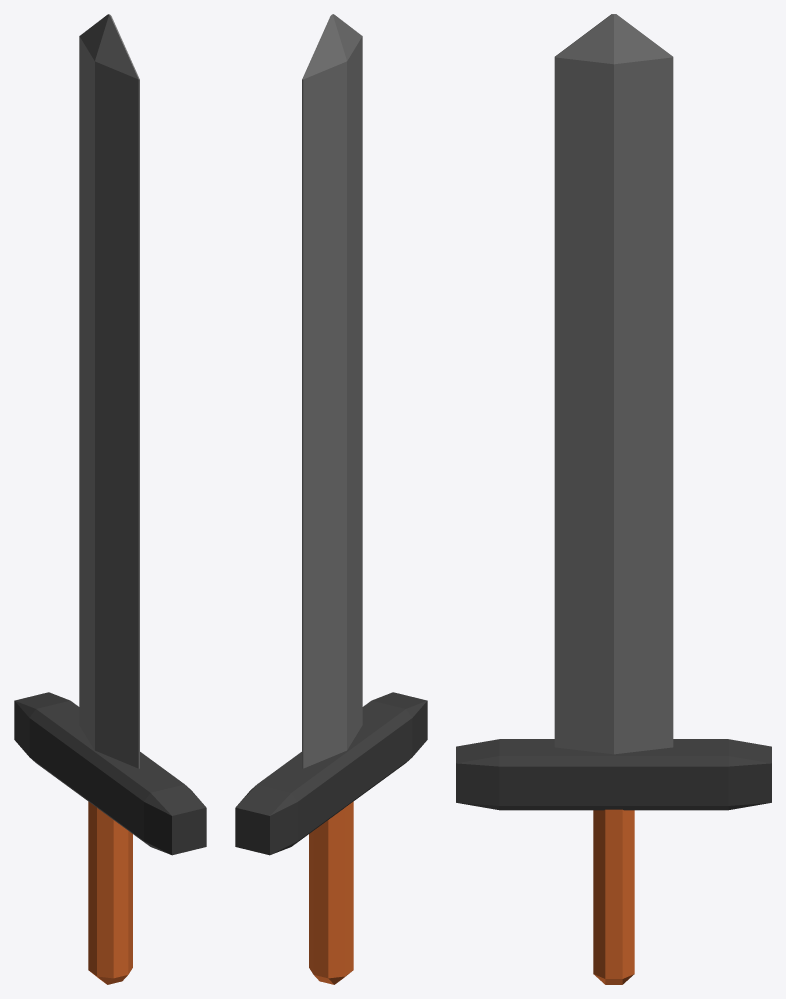
Rendered from LongSwordFBX.fbx.
3 renders of one model, left to right at view 1: azimuth 30°, elevation 25°; view 2: azimuth 150°, elevation 25°; view 3: azimuth 270°, elevation 25°, orthographic.
Parts seen in each view (by area): view 1: Cube.001; view 2: Cube.001; view 3: Cube.001.
Part boxes in pixels (x1,y1,x2,y2): Cube.001: [14, 14, 206, 984]; Cube.001: [235, 14, 427, 984]; Cube.001: [456, 14, 771, 984].
Size of the model in its own units: 11.05 by 215 by 63.7.
